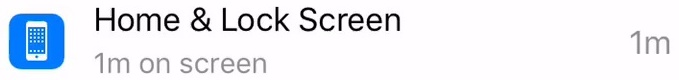name: (85, 2, 410, 39)
time: (92, 46, 137, 80)
